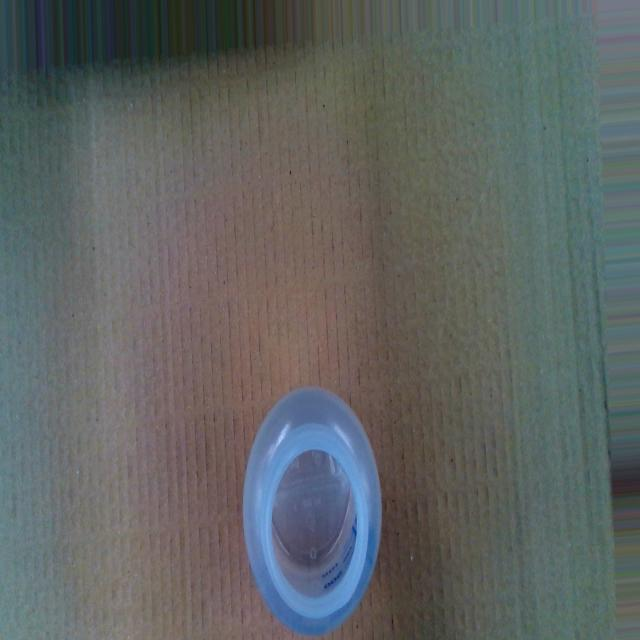bottle: (239, 378, 384, 640)
